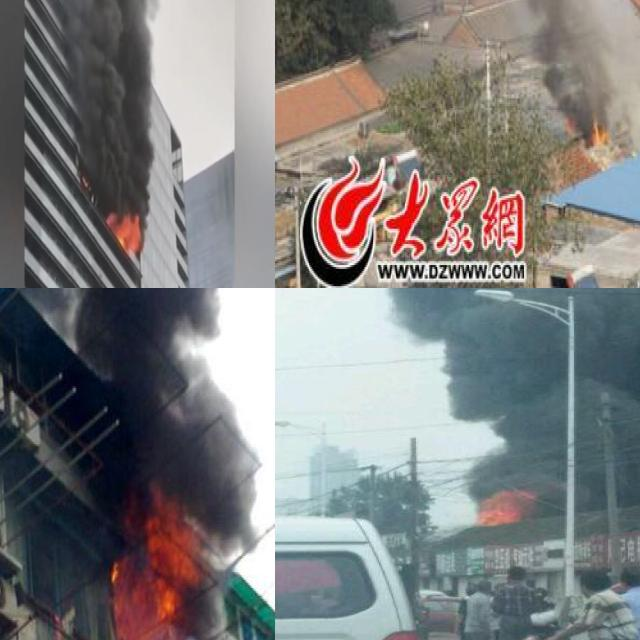fire: (110, 497, 211, 640), (474, 492, 530, 526), (109, 210, 143, 253), (586, 116, 608, 150)
smoke: (286, 288, 640, 509), (275, 0, 640, 125), (58, 0, 160, 221), (127, 380, 261, 535), (72, 288, 220, 372)
